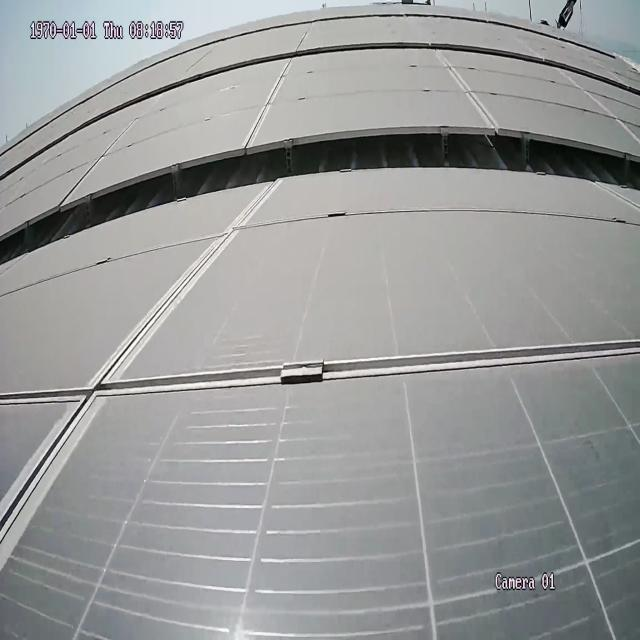interior panel: (1, 192, 634, 559), (64, 123, 132, 197), (245, 62, 292, 139), (439, 63, 495, 118)
outher panel: (0, 129, 640, 271)
